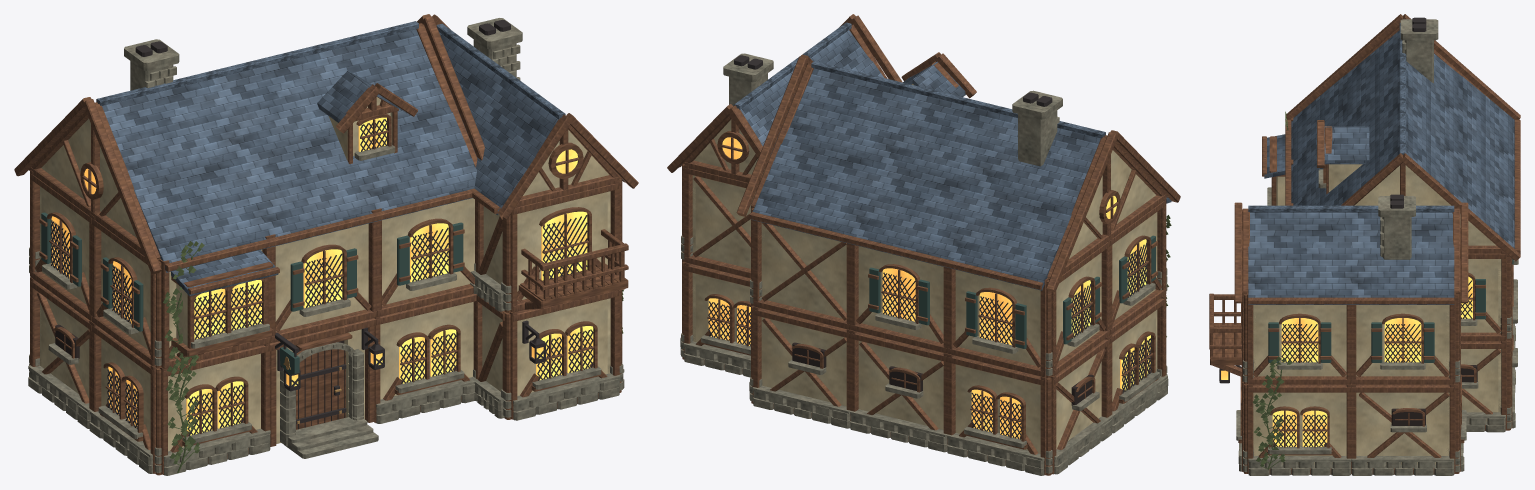
Rendered from bellharbor_inn.glb.
The picture shows the model from 3 angles, left to right: view 1: azimuth 30°, elevation 25°; view 2: azimuth 150°, elevation 25°; view 3: azimuth 270°, elevation 25°; orthographic projection. The views are drawn at different scales.
Parts seen in each view (by area): view 1: Brass Bell Inn; view 2: Brass Bell Inn; view 3: Brass Bell Inn.
Boxes of the visible parts, x1,y1,x2,y2 form: Brass Bell Inn: (14, 14, 638, 475); Brass Bell Inn: (667, 14, 1180, 475); Brass Bell Inn: (1209, 14, 1520, 475).
Size of the model in its own units: 13.7 by 10.31 by 9.67.
Materials: 11 (5 with a texture image).
